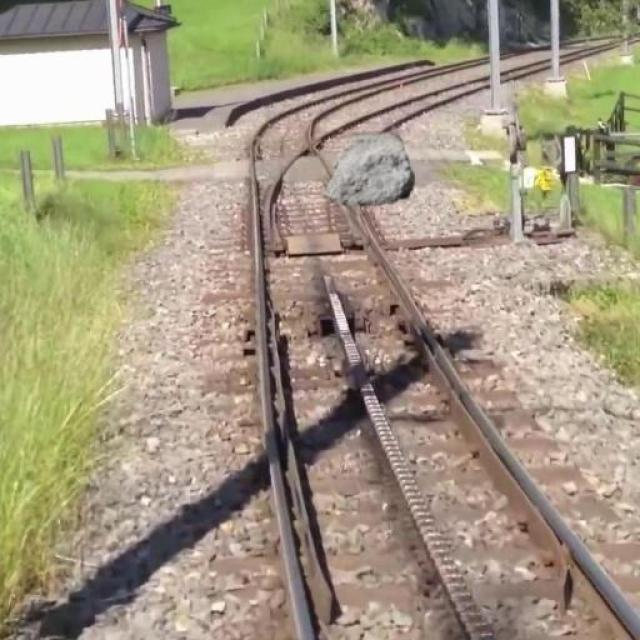Stone: (322, 131, 421, 209)
